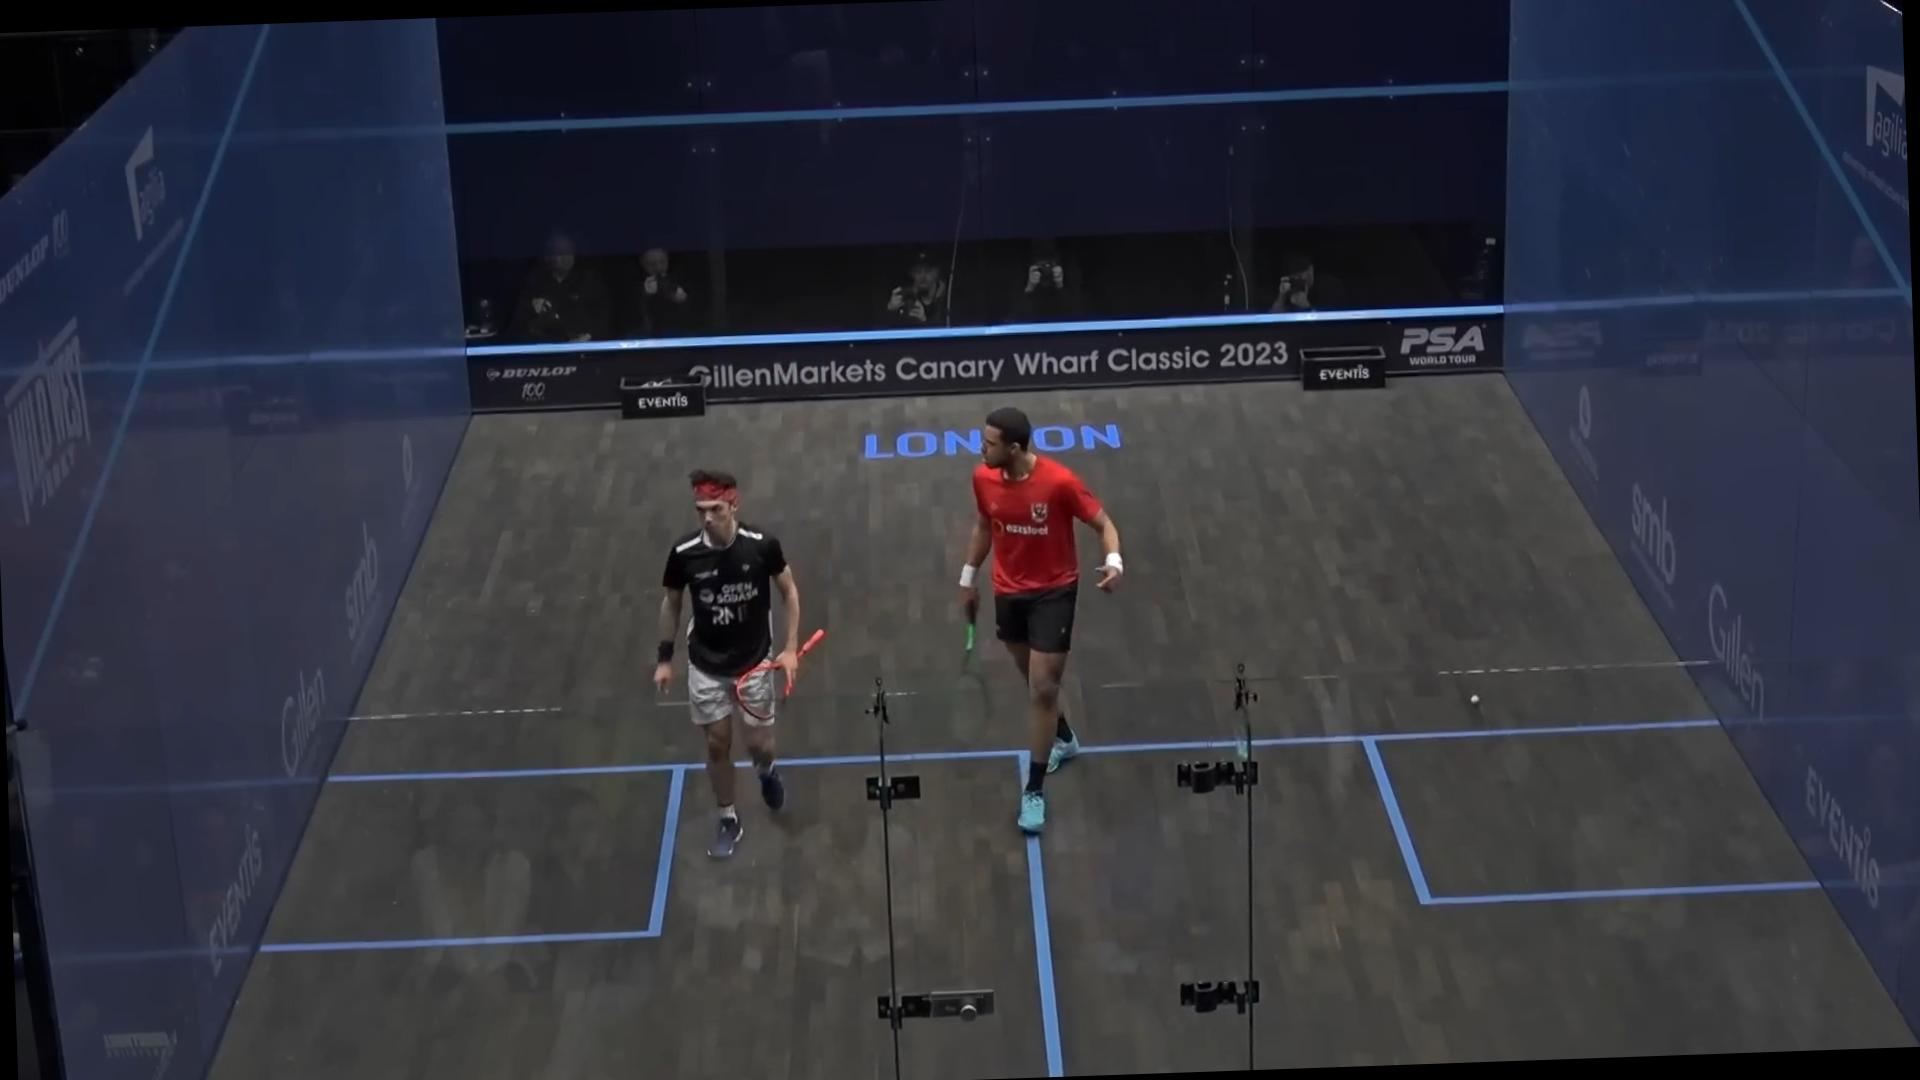Racket: (731, 622, 832, 723)
